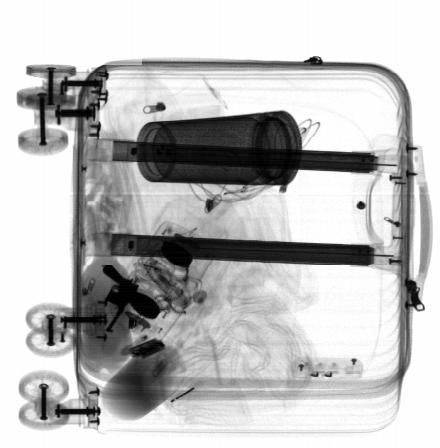Gun: (103, 264, 138, 334)
